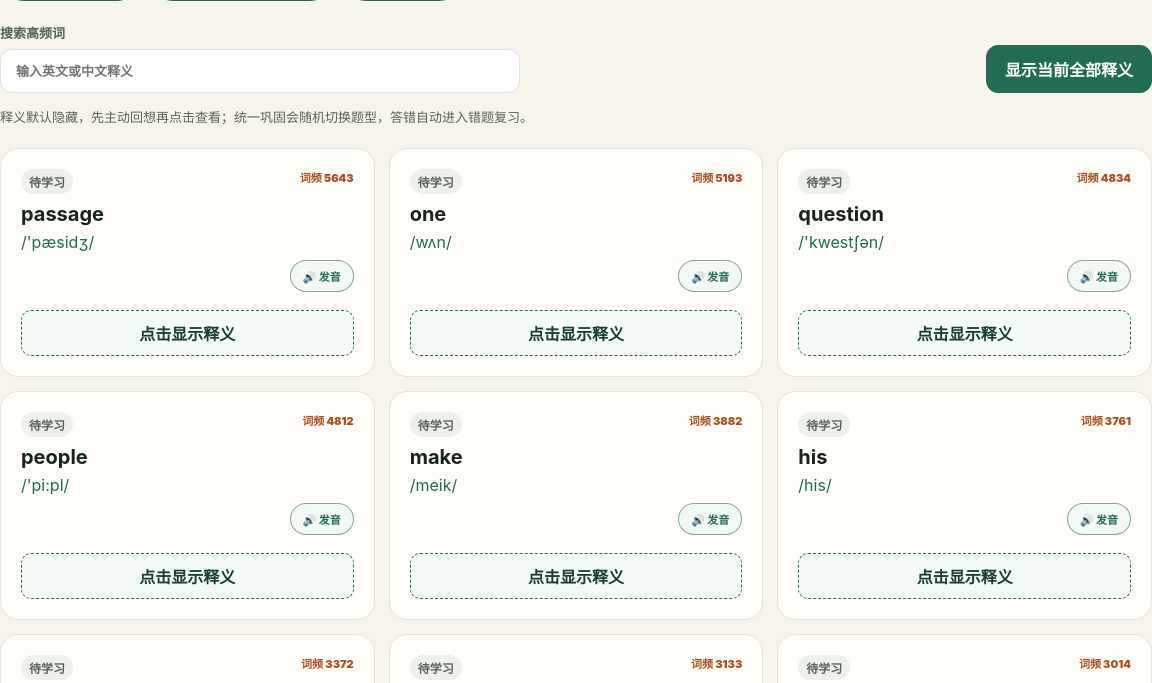
Test case: KnowledgePage › hides each meaning until that word is explicitly revealed
(page scrolled)
Click the button with aria-label "显示 passage 的释义" at (187, 333), box [21, 310, 354, 356]
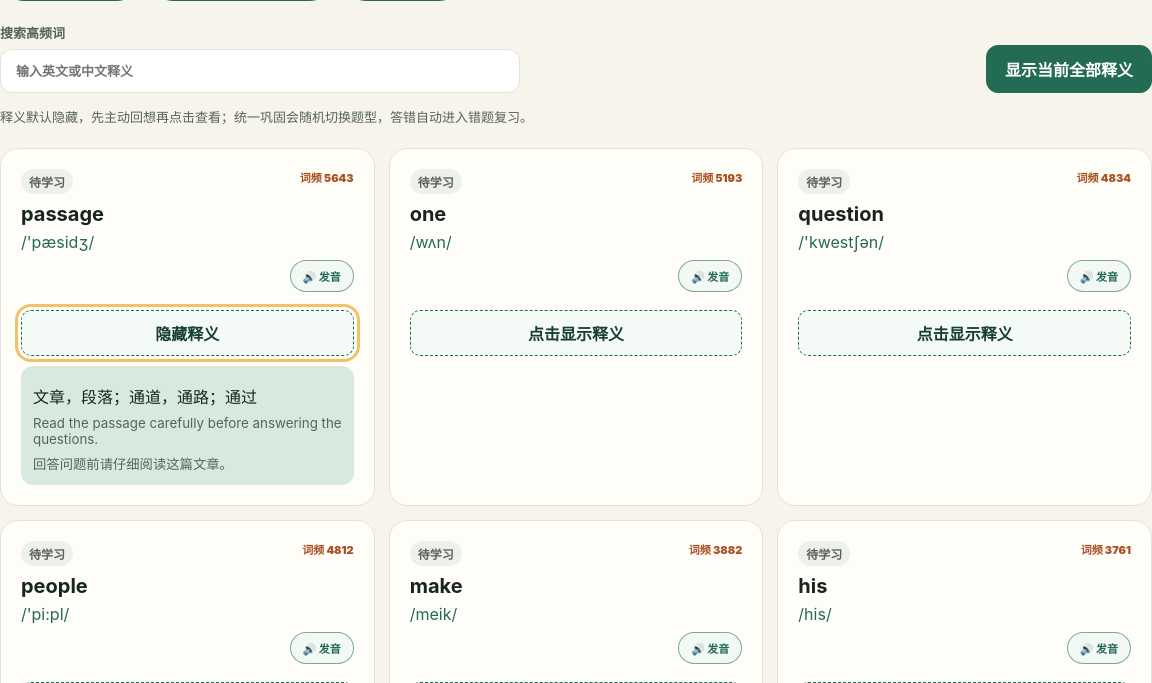
Expected: the text "文章，段落；通道，通路；通过" is shown, [33, 387, 257, 407]
